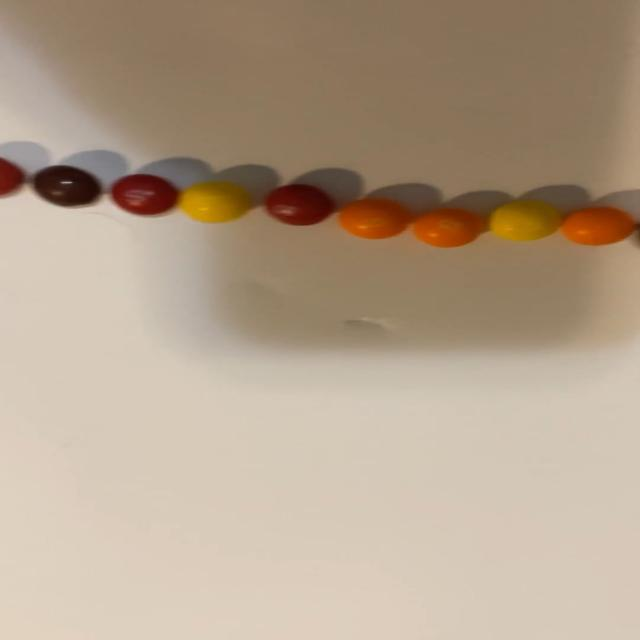smartie: (177, 181, 251, 222), (338, 198, 412, 239), (561, 206, 636, 245), (489, 201, 562, 241), (265, 184, 334, 225), (413, 208, 485, 247), (32, 165, 98, 206), (110, 174, 177, 214)
